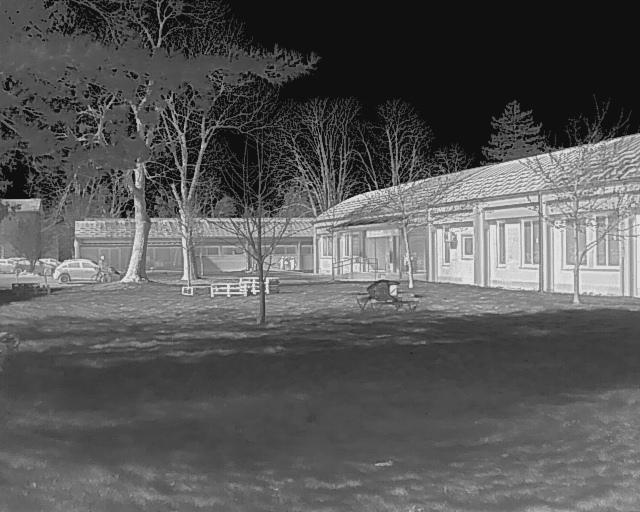drone: (342, 271, 432, 322)
